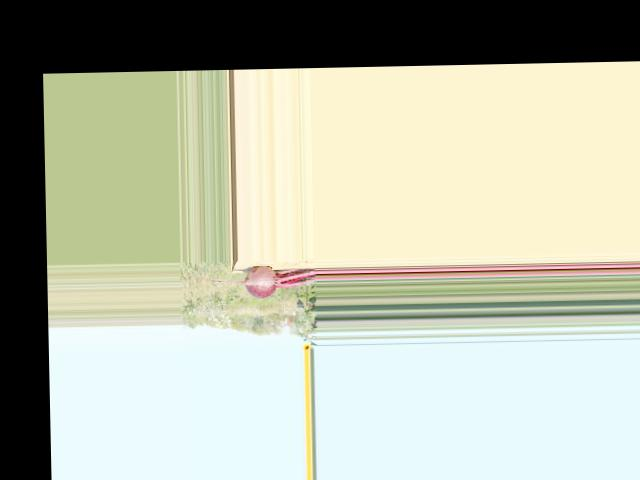beet: (184, 264, 317, 299)
